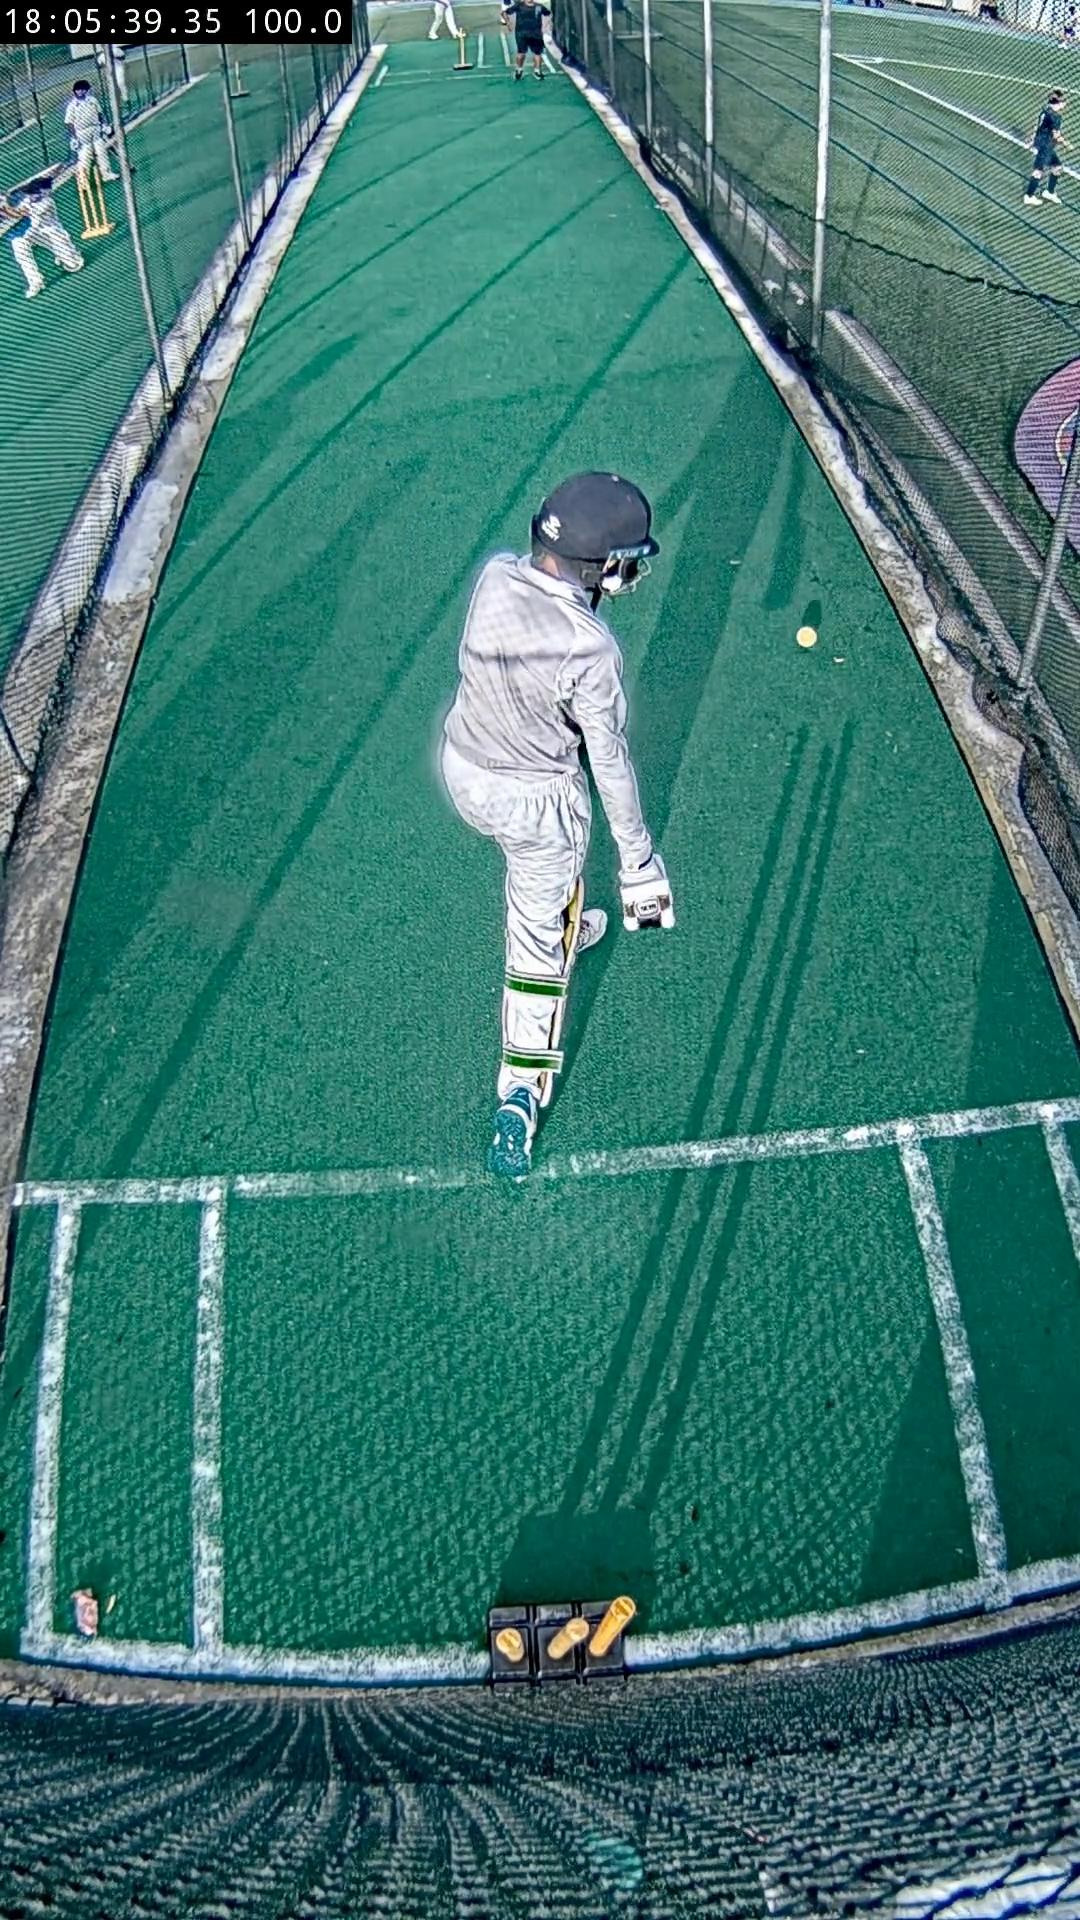ball: (795, 626, 818, 647)
gloves: (618, 855, 675, 930)
helmet: (533, 472, 661, 596)
pads: (563, 877, 585, 973)
stumps: (488, 1594, 637, 1681)
